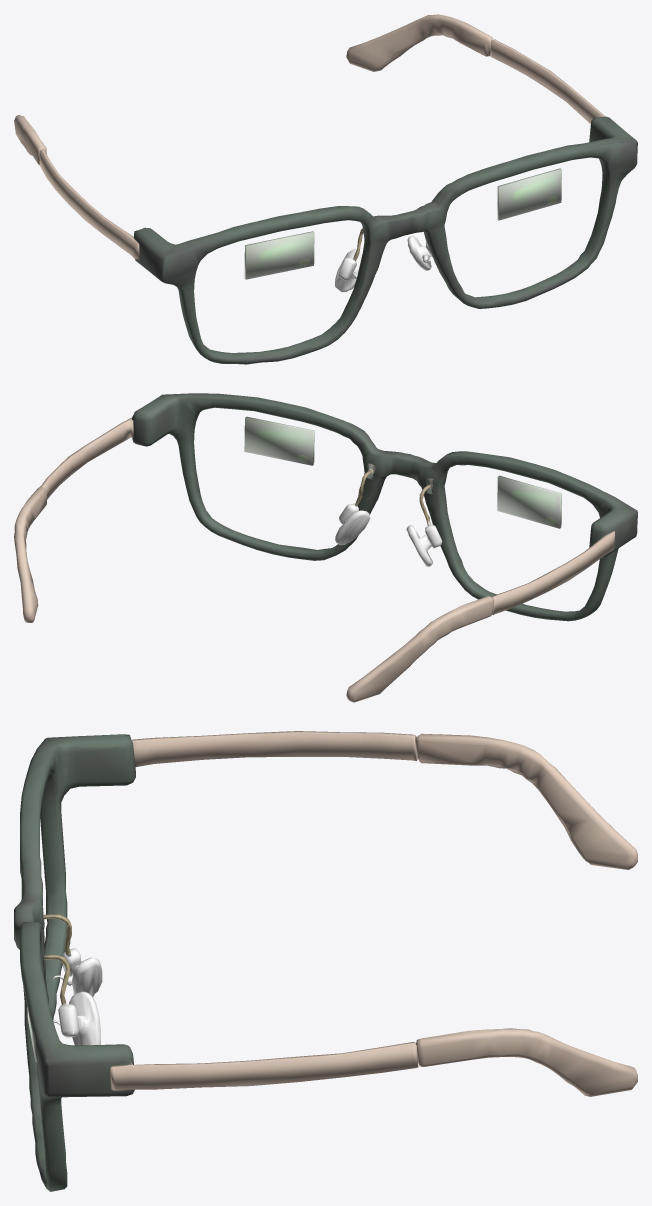
The model's file is original_glb.glb.
3 views of the same model, one above another, from view 1: azimuth 30°, elevation 25°; view 2: azimuth 150°, elevation 25°; view 3: azimuth 270°, elevation 25° (orthographic). The views are drawn at different scales.
Parts seen in each view (by area): view 1: Forest Bronze Smartglasses; view 2: Forest Bronze Smartglasses; view 3: Forest Bronze Smartglasses.
Boxes of the visible parts, bbox=[...] form: Forest Bronze Smartglasses: bbox=[14, 14, 637, 364]; Forest Bronze Smartglasses: bbox=[14, 393, 637, 702]; Forest Bronze Smartglasses: bbox=[14, 731, 637, 1191].
Size of the model in its own units: 0.998 by 0.2871 by 0.7988.
1 material, 1 textured.
